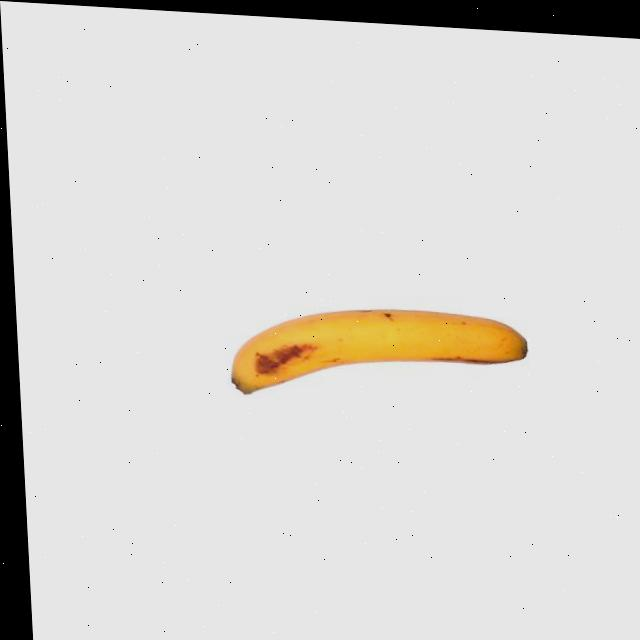banana: (221, 289, 537, 414)
